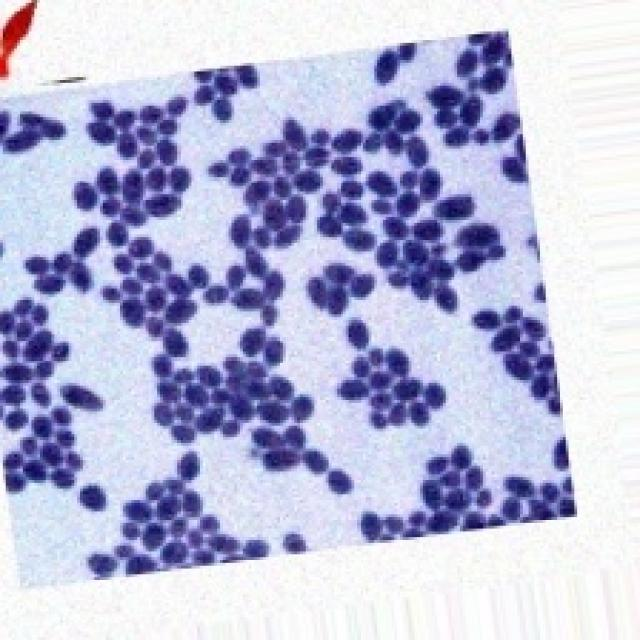Spherical_bacteria: (0, 26, 577, 586)
